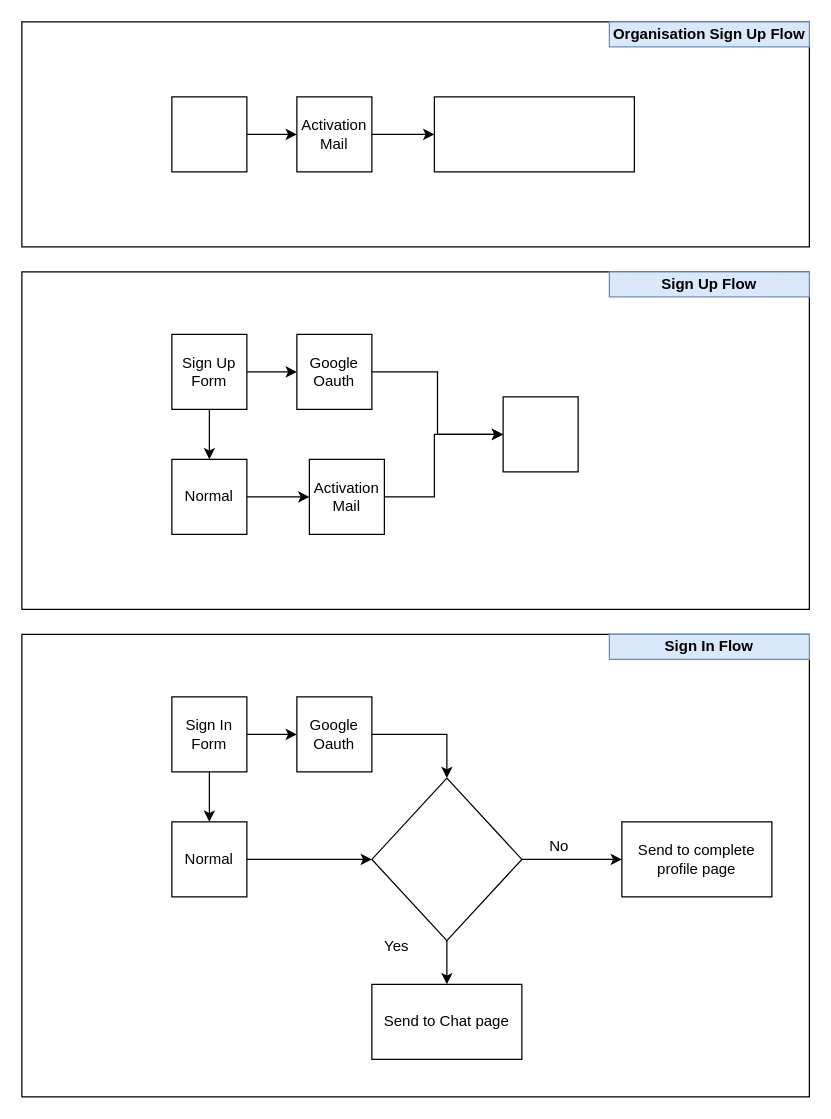
The diagram is 831 pixels wide and 1119 high, and some of its shapes have lost their labels. The box of each missing label's shape, as (x1, y1, x2, y2) in pixels:
Activate Organisation and Create Admin User Profile: (433, 96, 634, 172)
Fill Signup Form and Submit: (171, 96, 247, 172)
Organisation Email Present?: (371, 777, 522, 941)
Sign Up Success: (502, 396, 578, 472)
